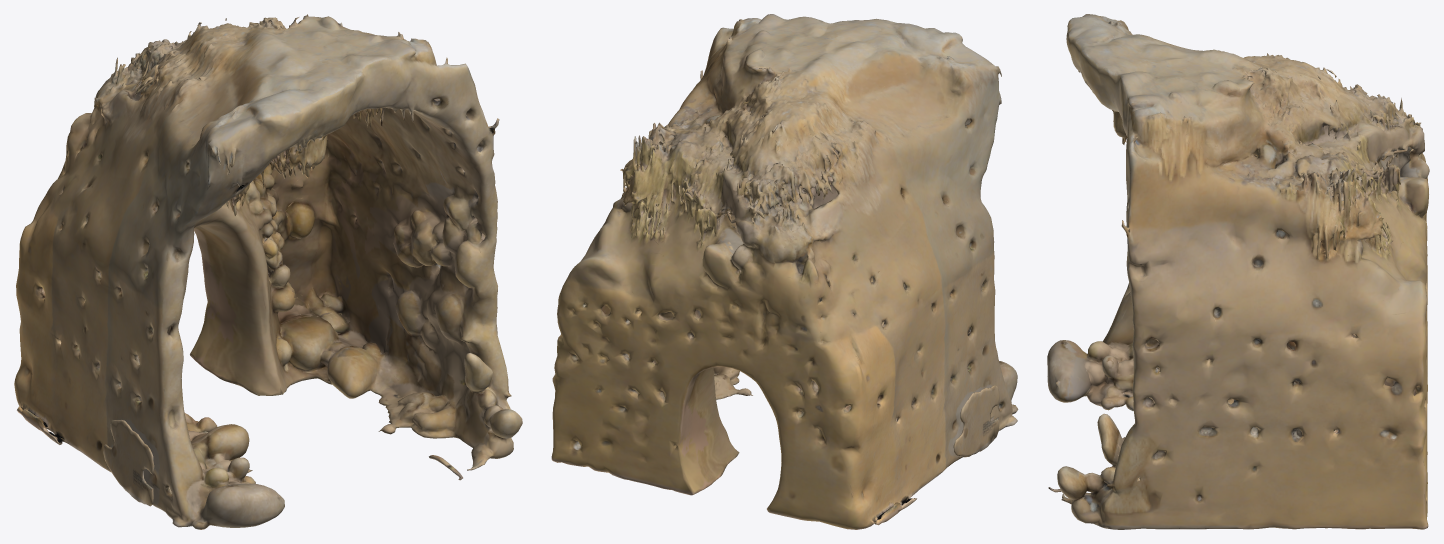
Rendered from do_a_prehistoric_burr_0820194659_texture.fbx.
The picture shows the model from 3 angles, left to right: view 1: azimuth 30°, elevation 25°; view 2: azimuth 150°, elevation 25°; view 3: azimuth 270°, elevation 25°; orthographic projection. The views are drawn at different scales.
Visible parts, largest first — view 1: Mesh1.0; view 2: Mesh1.0; view 3: Mesh1.0.
Part boxes in pixels (x1,y1,x2,y2): Mesh1.0: (14,14,522,529); Mesh1.0: (551,14,1018,529); Mesh1.0: (1047,14,1429,529).
Size of the model in its own units: 178 by 199 by 176.
1 material, 1 textured.
